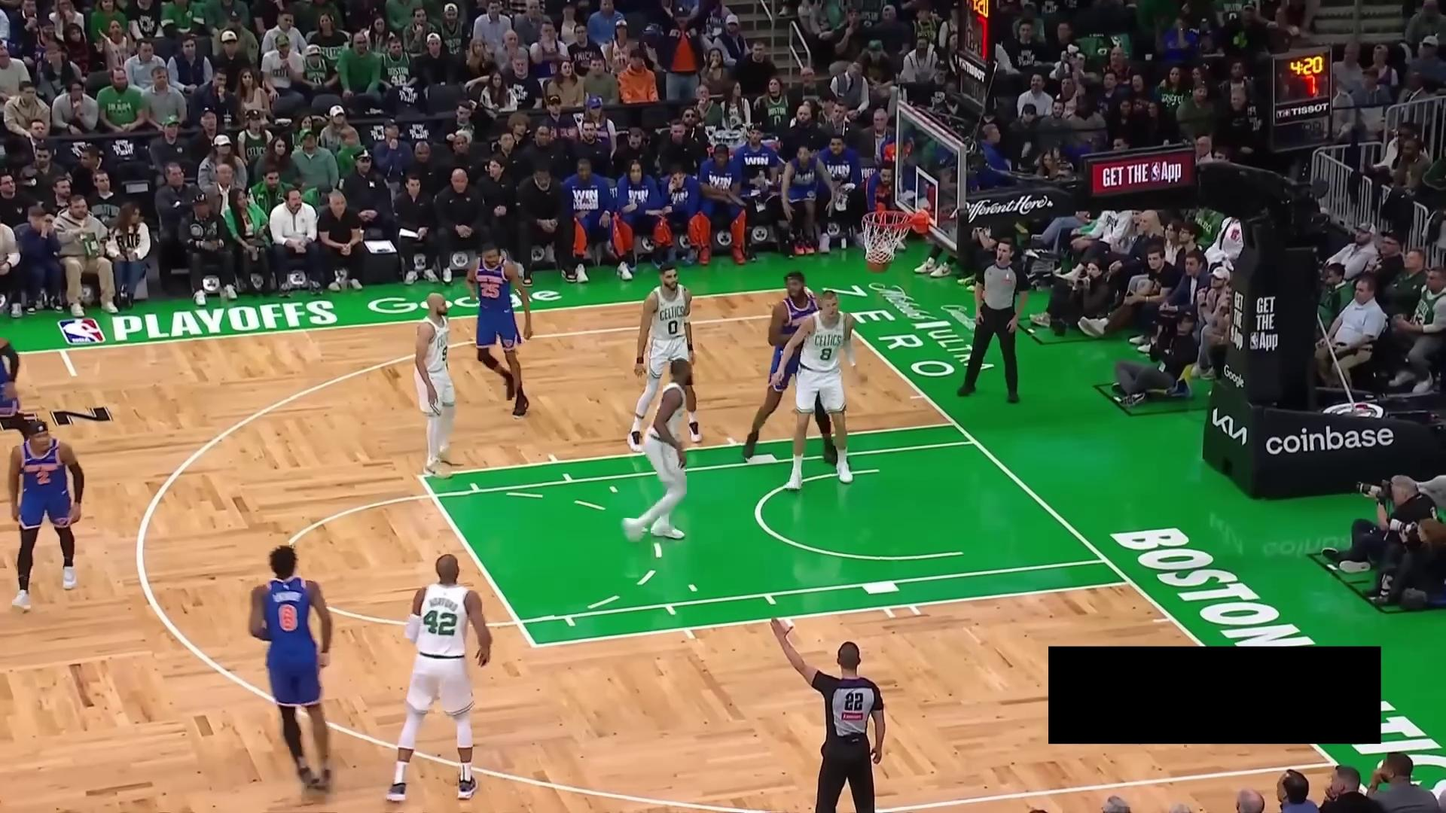ball: (865, 247, 891, 272)
ball-in-basket: (861, 208, 915, 272)
number: (423, 609, 458, 636), (277, 601, 299, 632), (480, 282, 501, 299), (819, 346, 834, 362), (667, 318, 679, 336), (439, 345, 449, 362)
player: (383, 553, 493, 803), (248, 544, 336, 803), (773, 289, 865, 492), (743, 269, 836, 464), (6, 418, 85, 613), (627, 261, 704, 452), (621, 357, 697, 544), (464, 239, 534, 418), (412, 291, 461, 480), (0, 305, 42, 491)
referee: (769, 616, 886, 812), (956, 236, 1030, 404)
rim: (862, 209, 914, 228)
